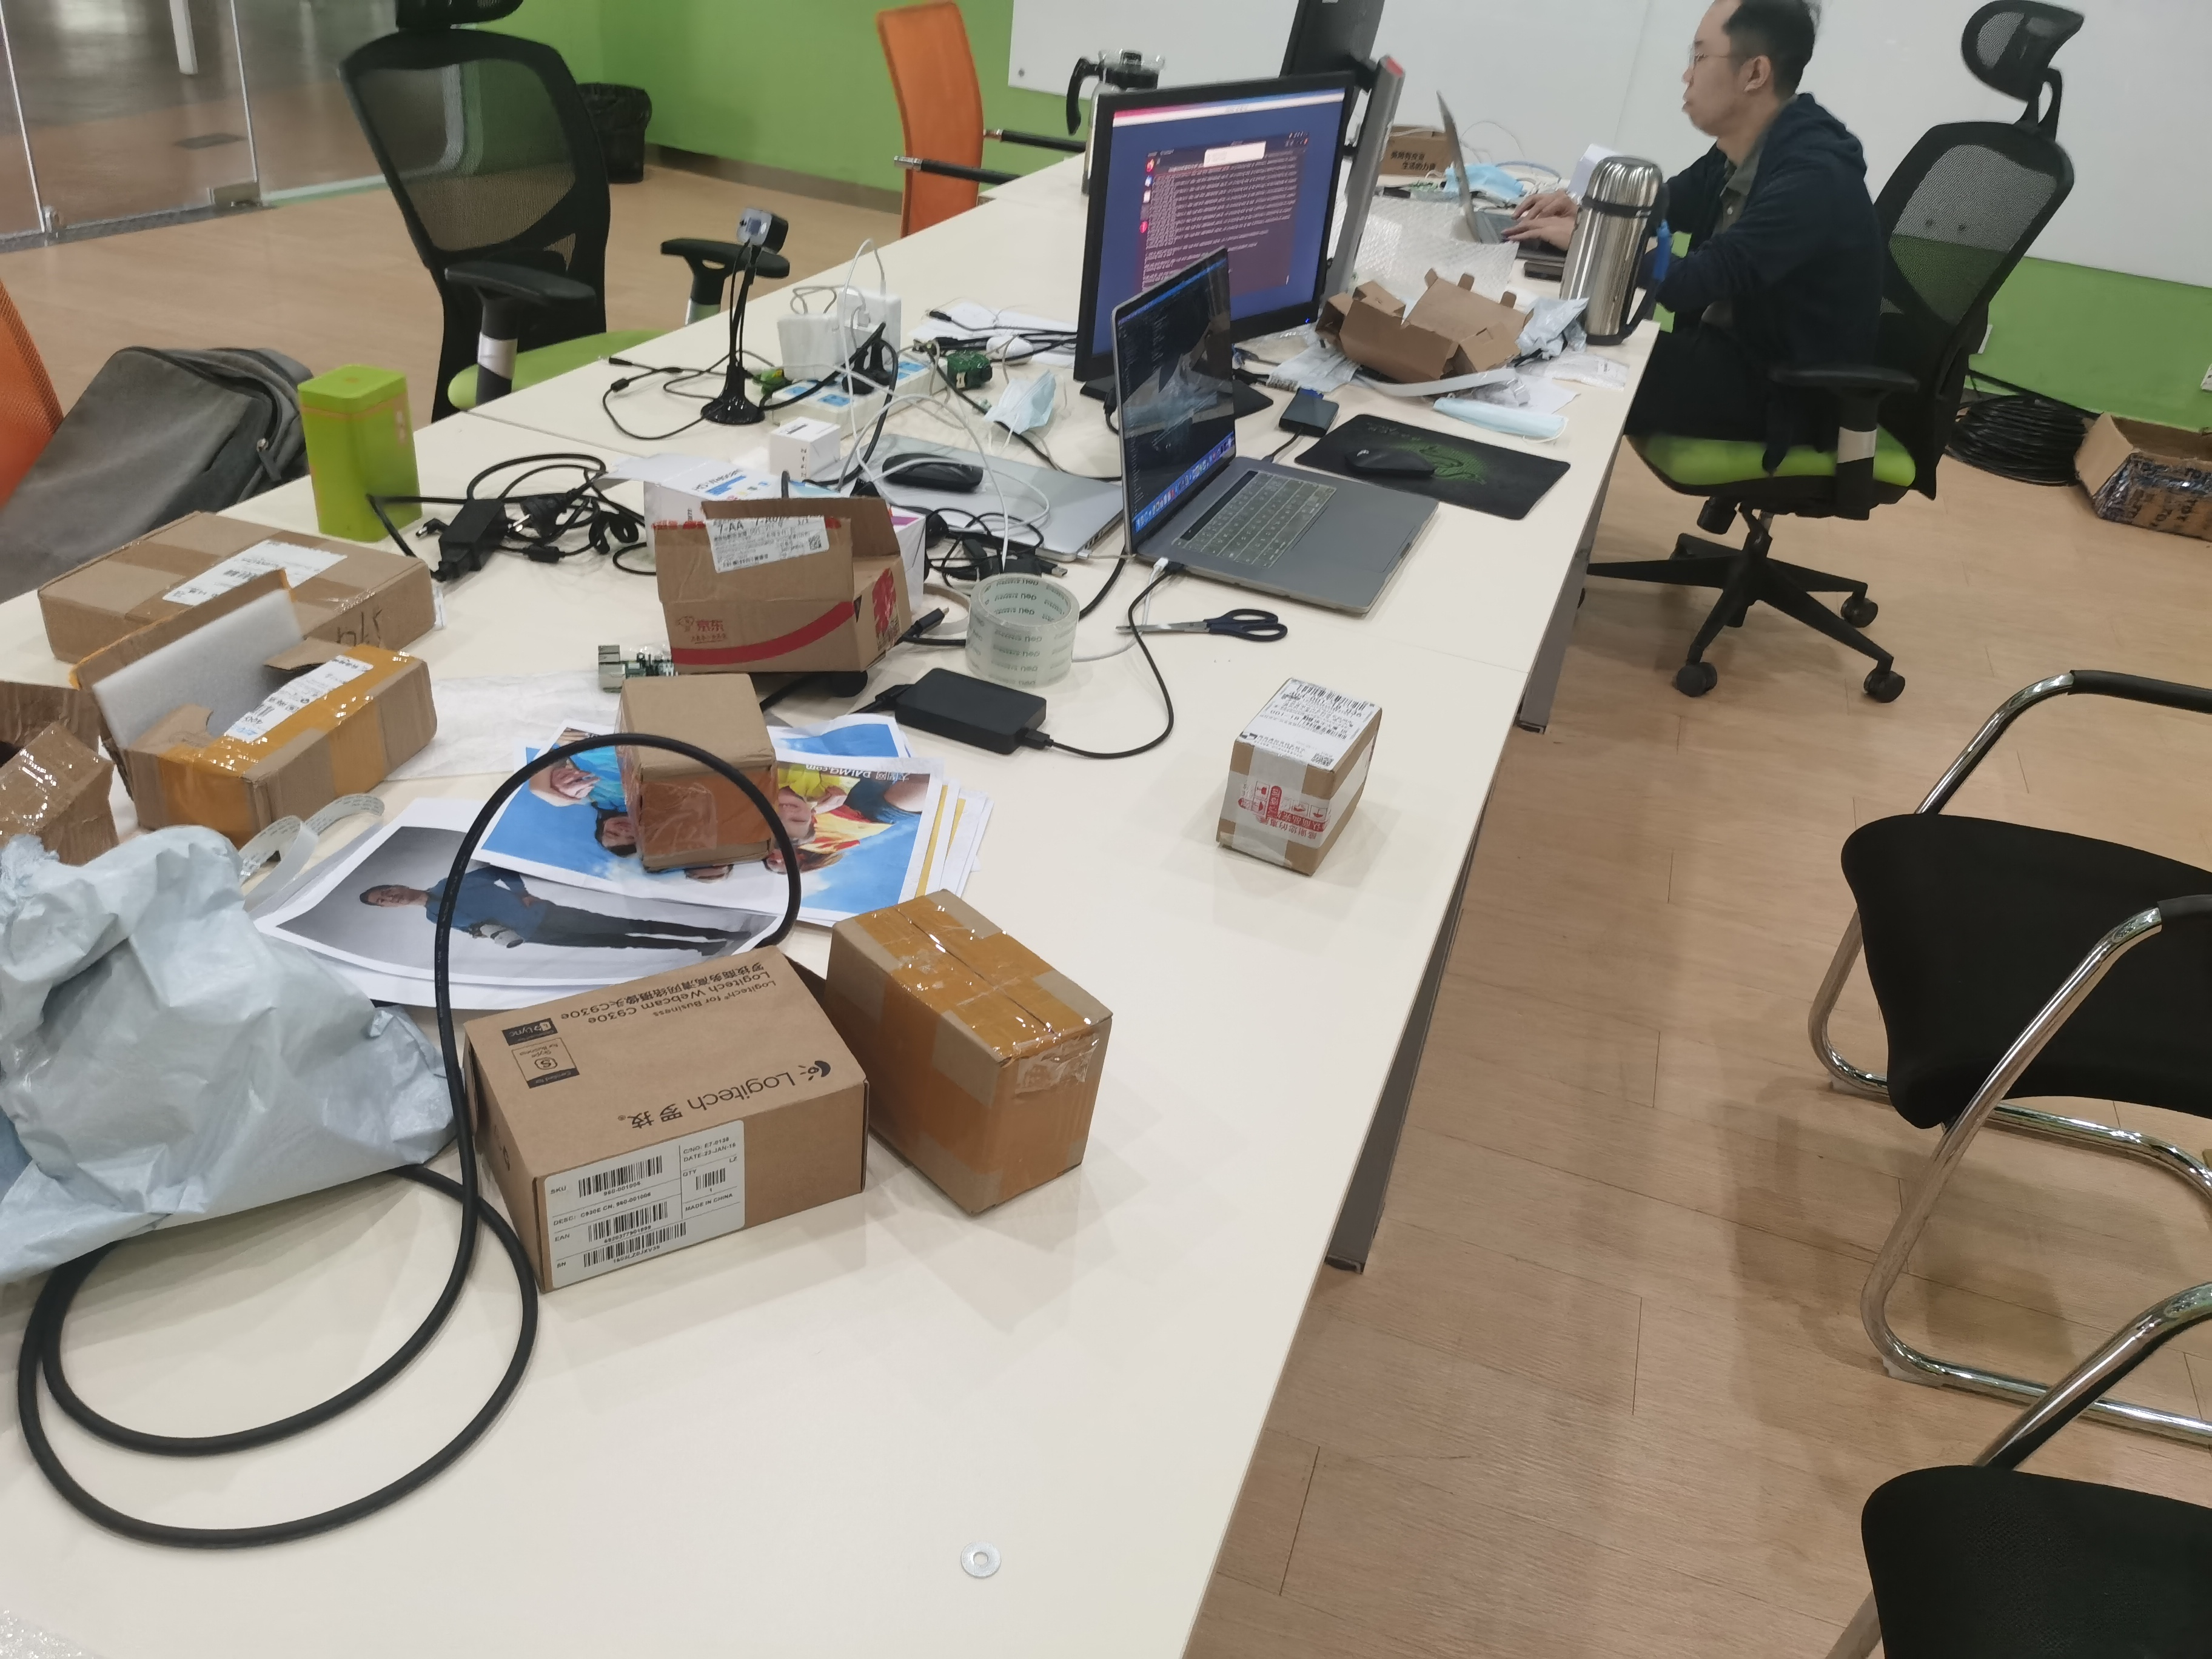box: (420, 932, 866, 1274), (57, 572, 449, 861), (815, 904, 1144, 1236), (38, 505, 448, 721), (632, 477, 911, 701), (1191, 653, 1407, 884), (604, 660, 813, 859)
